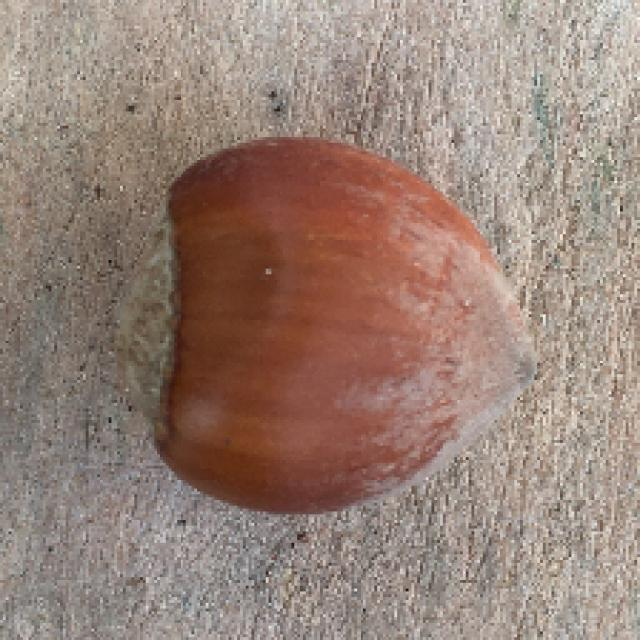qualityHazelnut: (105, 130, 544, 517)
